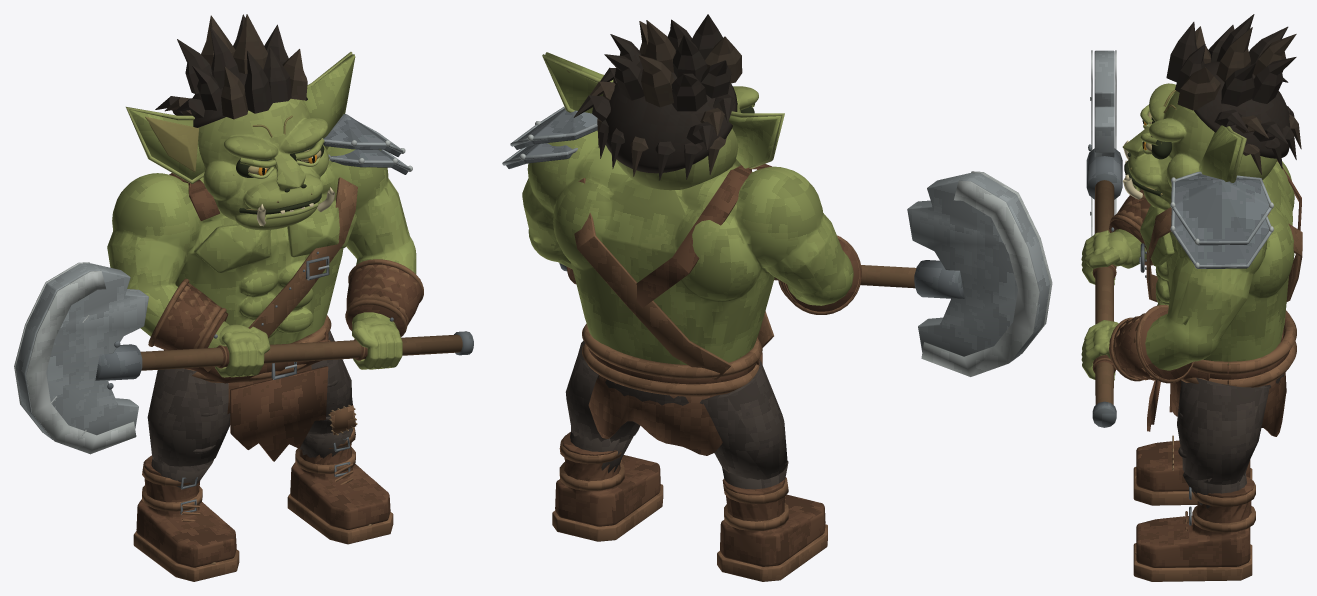
File: goblin_machado.glb
3 views of the same model, side by side, from view 1: azimuth 30°, elevation 25°; view 2: azimuth 150°, elevation 25°; view 3: azimuth 270°, elevation 25° (orthographic). The views are drawn at different scales.
Parts seen in each view (by area): view 1: Goblin_Pele_oliva, Goblin_Couro_castanho, Goblin_Bordas_couro, Machado_Aco_lamina, Goblin_Pele_rosto, Goblin_Calca_carvao, Goblin_Cabelo_escuro, Machado_Fio_gasto, Machado_Madeira_cabo, Goblin_Mechas_castanhas, Goblin_Ferro_fosco, Mao_D_Pele_rosto (+6 smaller); view 2: Goblin_Pele_oliva, Goblin_Bordas_couro, Goblin_Couro_castanho, Machado_Aco_lamina, Goblin_Cabelo_escuro, Goblin_Calca_carvao, Machado_Fio_gasto, Goblin_Pano_castanho, Goblin_Mechas_castanhas, Goblin_Pele_rosto, Goblin_Ferro_fosco, Machado_Ferro_fosco (+3 smaller); view 3: Goblin_Pele_oliva, Goblin_Couro_castanho, Goblin_Bordas_couro, Goblin_Cabelo_escuro, Goblin_Calca_carvao, Goblin_Ferro_fosco, Goblin_Pele_rosto, Goblin_Mechas_castanhas, Machado_Madeira_cabo, Machado_Aco_lamina, Machado_Ferro_fosco, Mao_D_Pele_rosto (+7 smaller).
Part boxes in pixels (x1,y1,x2,y2): Goblin_Pele_oliva: (107, 54, 416, 347); Goblin_Couro_castanho: (136, 173, 421, 567); Goblin_Bordas_couro: (133, 177, 423, 581); Machado_Aco_lamina: (15, 263, 148, 439); Goblin_Pele_rosto: (198, 99, 328, 230); Goblin_Calca_carvao: (147, 330, 353, 487); Goblin_Cabelo_escuro: (155, 14, 307, 127); Machado_Fio_gasto: (14, 262, 136, 454); Machado_Madeira_cabo: (140, 334, 462, 370); Goblin_Mechas_castanhas: (165, 14, 307, 119); Goblin_Ferro_fosco: (180, 114, 408, 514); Mao_D_Pele_rosto: (215, 324, 270, 377); Goblin_Pele_oliva: (522, 52, 853, 364); Goblin_Bordas_couro: (552, 178, 861, 581); Goblin_Couro_castanho: (555, 164, 861, 566); Machado_Aco_lamina: (907, 173, 1050, 362); Goblin_Cabelo_escuro: (573, 14, 737, 180); Goblin_Calca_carvao: (565, 340, 788, 489); Machado_Fio_gasto: (921, 171, 1052, 376); Goblin_Pano_castanho: (588, 374, 722, 455); Goblin_Mechas_castanhas: (590, 20, 742, 176); Goblin_Pele_rosto: (616, 86, 758, 190); Goblin_Ferro_fosco: (506, 108, 597, 168); Machado_Ferro_fosco: (559, 260, 964, 298); Goblin_Pele_oliva: (1108, 125, 1294, 370); Goblin_Couro_castanho: (1109, 160, 1301, 567); Goblin_Bordas_couro: (1109, 195, 1302, 581); Goblin_Cabelo_escuro: (1166, 14, 1296, 169); Goblin_Calca_carvao: (1177, 341, 1283, 508); Goblin_Ferro_fosco: (1111, 174, 1268, 525); Goblin_Pele_rosto: (1122, 83, 1277, 210); Goblin_Mechas_castanhas: (1177, 26, 1301, 174); Machado_Madeira_cabo: (1095, 180, 1114, 404); Machado_Aco_lamina: (1094, 50, 1114, 233); Machado_Ferro_fosco: (1086, 144, 1122, 427); Mao_D_Pele_rosto: (1081, 230, 1132, 285).
Bounding box in the file's own units: 1.63 × 1.72 × 0.6801.
Materials: 20 (15 with a texture image).
